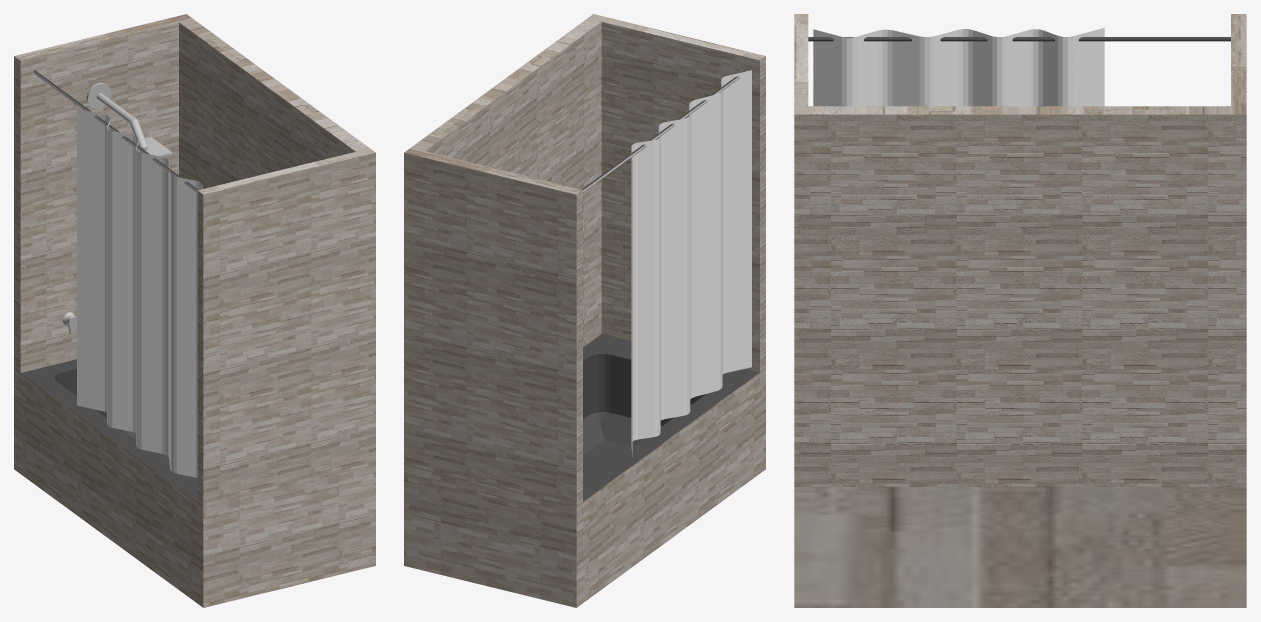
The model's file is Showertub.fbx.
3 views of the same model, side by side, from view 1: azimuth 30°, elevation 25°; view 2: azimuth 150°, elevation 25°; view 3: azimuth 270°, elevation 25° (orthographic). The views are drawn at different scales.
Visible parts, largest first — view 1: Cylinder.008; view 2: Cylinder.008; view 3: Cylinder.008.
Boxes of the visible parts, x1,y1,x2,y2 form: Cylinder.008: (14,14,375,607); Cylinder.008: (404,14,765,607); Cylinder.008: (794,14,1246,607).
Size of the model in its own units: 107 by 245 by 203.
